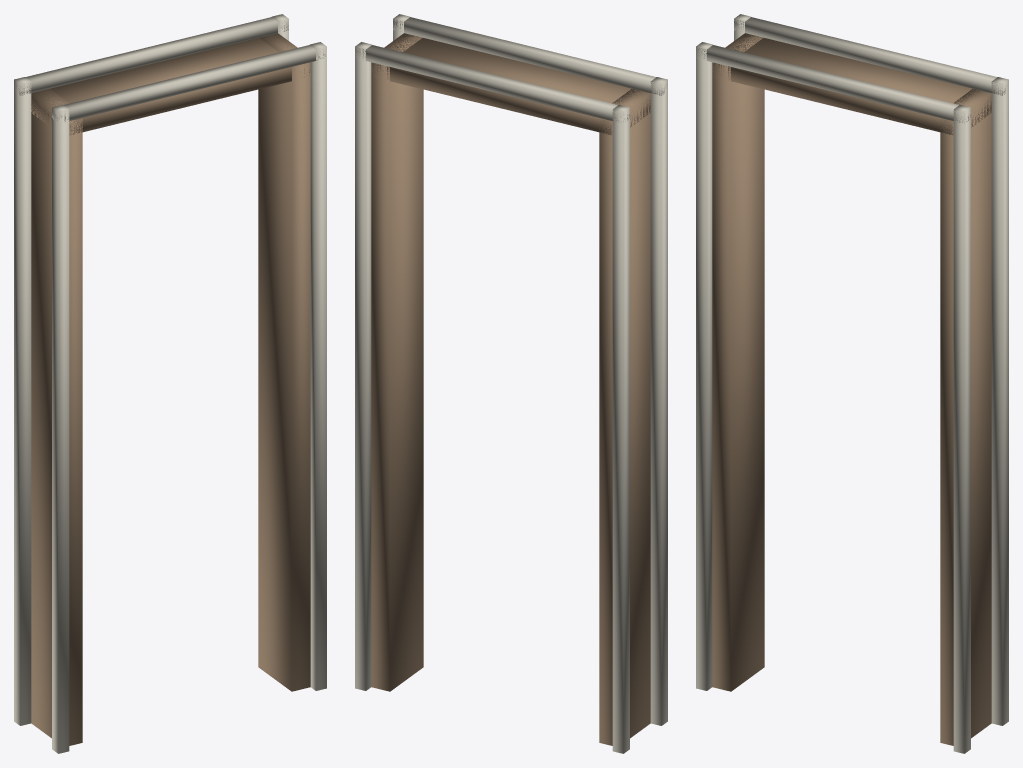
File: doorway_painted_trim_w86_h240_d24.glb
The picture shows the model from 3 angles, left to right: view 1: azimuth 30°, elevation 25°; view 2: azimuth 150°, elevation 25°; view 3: azimuth 330°, elevation 25°; orthographic projection.
Parts seen in each view (by area): view 1: world; view 2: world; view 3: world.
Part boxes in pixels (x1,y1,x2,y2): world: (14, 14, 326, 753); world: (355, 14, 667, 753); world: (696, 14, 1008, 753).
Size of the model in its own units: 1.1 by 2.52 by 0.3165.
